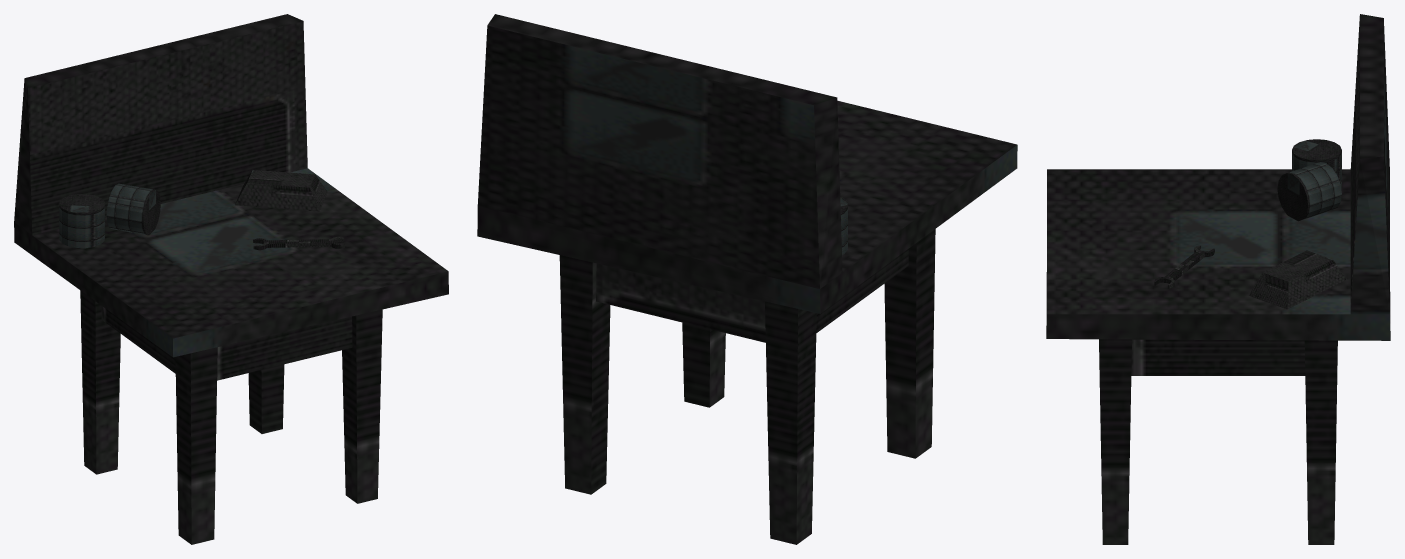
Rendered from wpn_upgrade_table.obj.
The picture shows the model from 3 angles, left to right: view 1: azimuth 30°, elevation 25°; view 2: azimuth 150°, elevation 25°; view 3: azimuth 270°, elevation 25°; orthographic projection. The views are drawn at different scales.
Visible parts, largest first — view 1: wpn_upgrade_table_Cube.003; view 2: wpn_upgrade_table_Cube.003; view 3: wpn_upgrade_table_Cube.003.
Part boxes in pixels (box(x1,y1,x2,y2)): wpn_upgrade_table_Cube.003: box(14, 14, 448, 544); wpn_upgrade_table_Cube.003: box(477, 14, 1017, 544); wpn_upgrade_table_Cube.003: box(1046, 14, 1390, 544).
Size of the model in its own units: 2 by 2.63 by 2.01.
